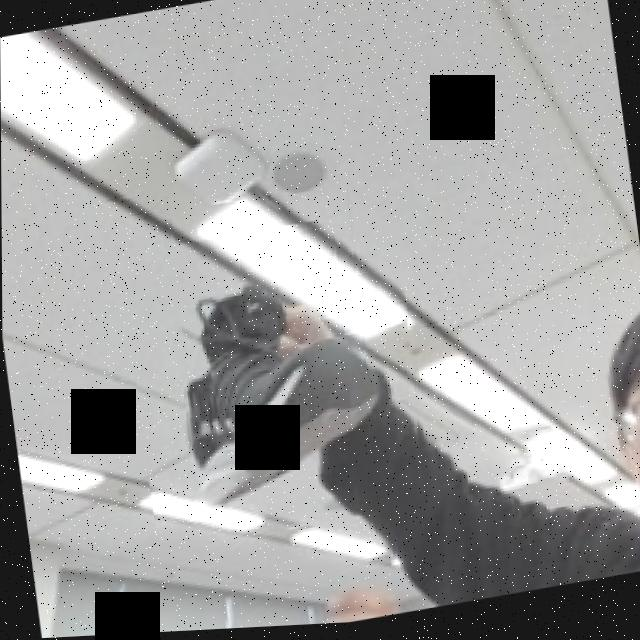shoe: (119, 209, 436, 559)
